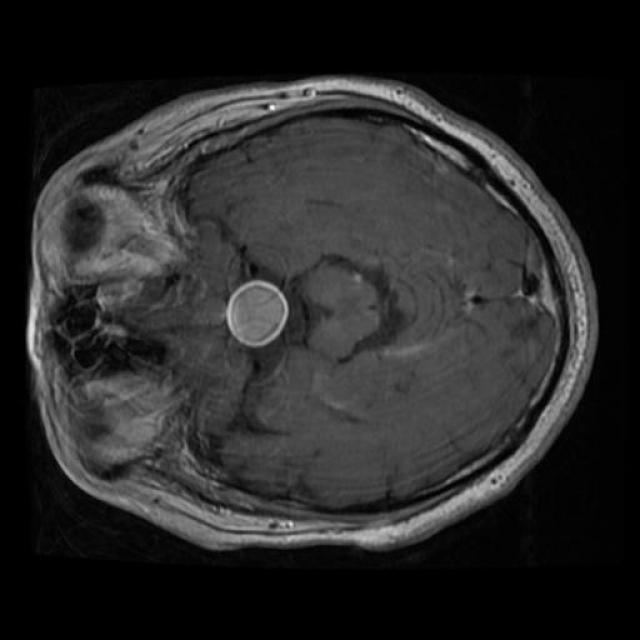Pituitary: (227, 279, 289, 349)
